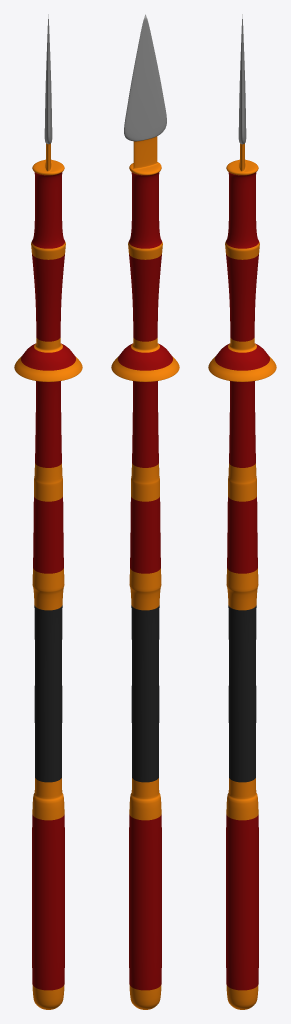
Rendered from Spear.fbx.
3 renders of one model, left to right at view 1: azimuth 90°, elevation 25°; view 2: azimuth 210°, elevation 25°; view 3: azimuth 270°, elevation 25°, orthographic.
Visible parts, largest first — view 1: Cylinder001 (×4); view 2: Cylinder001 (×4); view 3: Cylinder001 (×4).
Boxes of the visible parts, left/top/right/bottom form: Cylinder001 (×4): left=14, top=14, right=82, bottom=1009; Cylinder001 (×4): left=111, top=14, right=179, bottom=1009; Cylinder001 (×4): left=208, top=14, right=276, bottom=1009.
Size of the model in its own units: 8.82 by 142 by 8.82.
